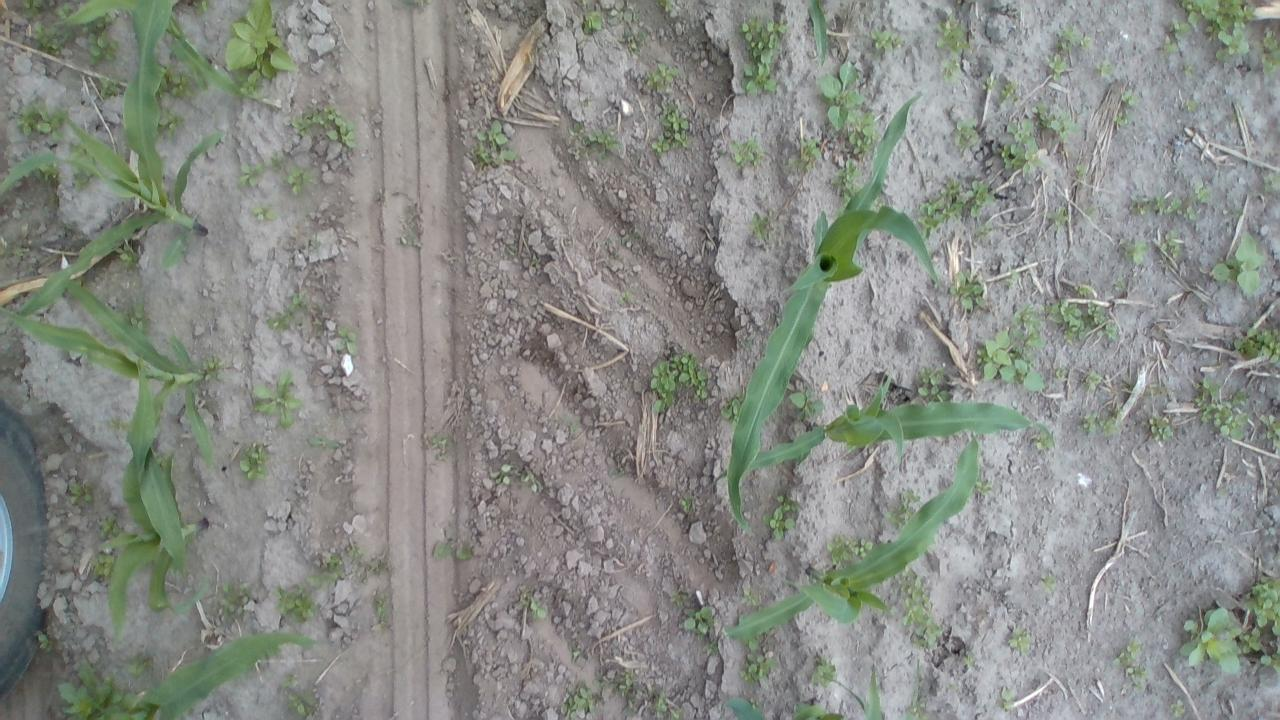Maize: (734, 90, 942, 522), (3, 0, 226, 316), (3, 280, 228, 570), (729, 436, 980, 630), (700, 373, 1037, 495), (53, 0, 281, 113), (103, 452, 212, 642), (143, 635, 315, 720), (826, 667, 885, 720), (804, 0, 830, 61), (718, 694, 768, 720), (789, 705, 840, 720)
Weeds: (1161, 0, 1280, 78), (57, 659, 147, 720), (222, 0, 294, 76), (1180, 605, 1245, 676), (1046, 279, 1116, 344), (739, 18, 794, 100), (601, 667, 686, 720), (650, 340, 709, 413), (976, 330, 1042, 394), (897, 570, 951, 644), (916, 177, 990, 230), (1208, 230, 1264, 300), (1240, 574, 1280, 671), (1130, 178, 1212, 224), (1195, 374, 1249, 442), (1000, 116, 1052, 180), (822, 61, 865, 134), (291, 103, 357, 147), (253, 369, 300, 430), (310, 537, 359, 590), (12, 99, 68, 140), (473, 116, 515, 170), (735, 638, 784, 683), (570, 118, 620, 162), (650, 103, 694, 152), (1049, 24, 1090, 76), (482, 460, 542, 494), (278, 670, 317, 718), (764, 490, 801, 540), (1230, 325, 1280, 362), (28, 18, 74, 58), (1012, 303, 1048, 353), (828, 536, 882, 568), (728, 128, 769, 170), (1118, 636, 1153, 684), (559, 682, 601, 720), (948, 266, 986, 308), (788, 388, 832, 424), (1036, 102, 1080, 138), (218, 578, 251, 622), (788, 130, 822, 172), (849, 109, 880, 154), (909, 656, 930, 720), (265, 294, 302, 330), (280, 585, 316, 620), (645, 61, 679, 96), (241, 441, 273, 478), (870, 26, 906, 58), (948, 116, 980, 152), (1142, 411, 1178, 443), (86, 34, 123, 65), (683, 603, 720, 634), (937, 16, 967, 54), (432, 536, 475, 562), (604, 0, 644, 27), (916, 366, 948, 398), (516, 588, 546, 622), (162, 64, 192, 98), (894, 489, 921, 526), (68, 480, 102, 508), (1118, 236, 1152, 264), (833, 160, 858, 198), (1080, 366, 1112, 395), (333, 326, 362, 357), (1100, 399, 1123, 437), (996, 74, 1020, 110), (750, 207, 776, 240), (238, 163, 266, 193), (812, 659, 840, 688), (568, 637, 594, 668), (1259, 410, 1280, 448), (580, 9, 606, 39), (1008, 622, 1034, 651), (288, 165, 311, 197), (91, 554, 117, 582), (616, 28, 644, 54), (396, 222, 420, 252), (364, 552, 392, 577), (95, 511, 122, 536), (240, 70, 270, 92), (556, 413, 582, 438), (1158, 230, 1182, 256), (1033, 429, 1061, 451), (676, 491, 700, 516), (374, 591, 389, 630), (158, 108, 182, 132), (997, 685, 1022, 708), (940, 57, 963, 82), (117, 248, 145, 268), (130, 300, 150, 328), (100, 75, 122, 100), (1078, 412, 1100, 437), (307, 435, 343, 450), (127, 653, 154, 673), (1034, 572, 1058, 594), (69, 167, 95, 187), (202, 356, 223, 380), (250, 204, 276, 222), (1092, 58, 1112, 81), (1229, 387, 1250, 408), (18, 0, 58, 11), (702, 638, 724, 658), (1048, 204, 1068, 226), (1108, 275, 1128, 297), (430, 433, 453, 452), (722, 395, 738, 422), (974, 478, 996, 497), (742, 588, 762, 608), (268, 152, 286, 174), (972, 226, 994, 244), (1262, 170, 1280, 192), (1004, 268, 1020, 292), (957, 648, 977, 667), (34, 633, 52, 654), (1120, 89, 1141, 106), (672, 590, 690, 609), (108, 414, 125, 433), (654, 0, 674, 15), (41, 164, 60, 179), (1170, 700, 1188, 715), (1183, 94, 1197, 112), (620, 289, 638, 303), (192, 0, 208, 14), (1114, 110, 1128, 126), (1054, 366, 1068, 380), (54, 8, 72, 18), (407, 0, 432, 7), (1072, 162, 1086, 172), (156, 453, 168, 463), (750, 698, 760, 708), (986, 76, 991, 91)
